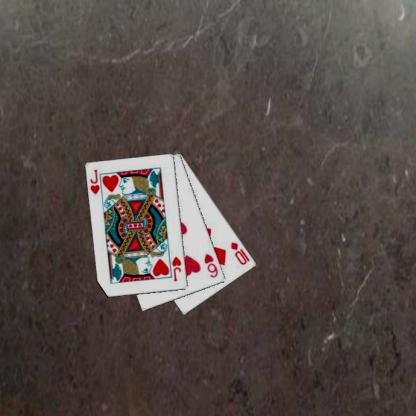10D: (228, 239, 251, 266)
6H: (202, 251, 220, 279)
JH: (169, 254, 183, 283), (88, 167, 101, 195)
